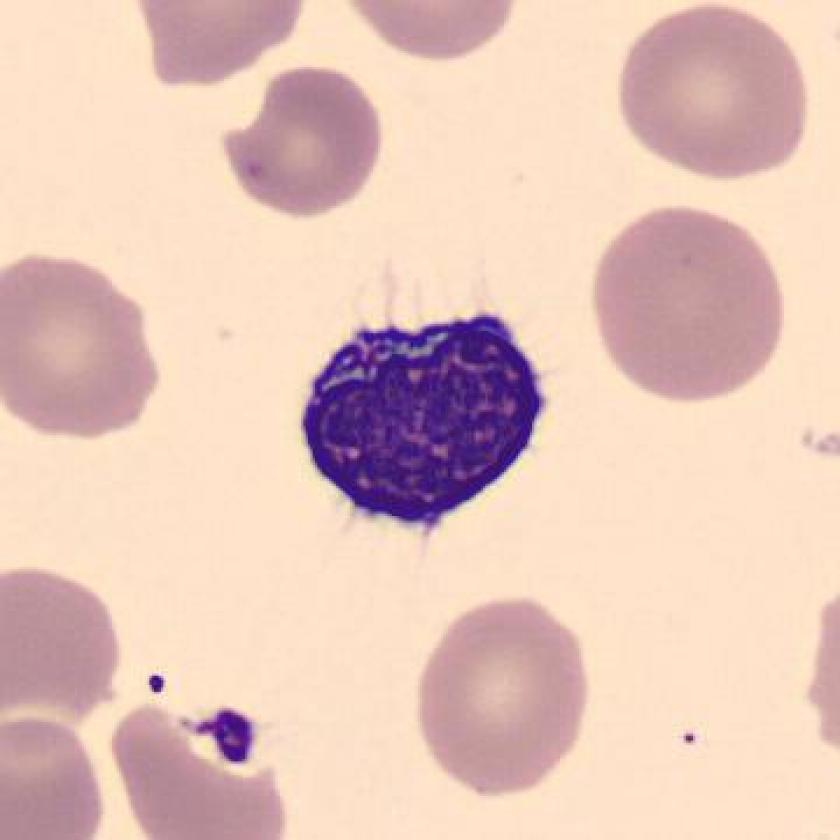lymphocyte: (288, 300, 556, 550)
